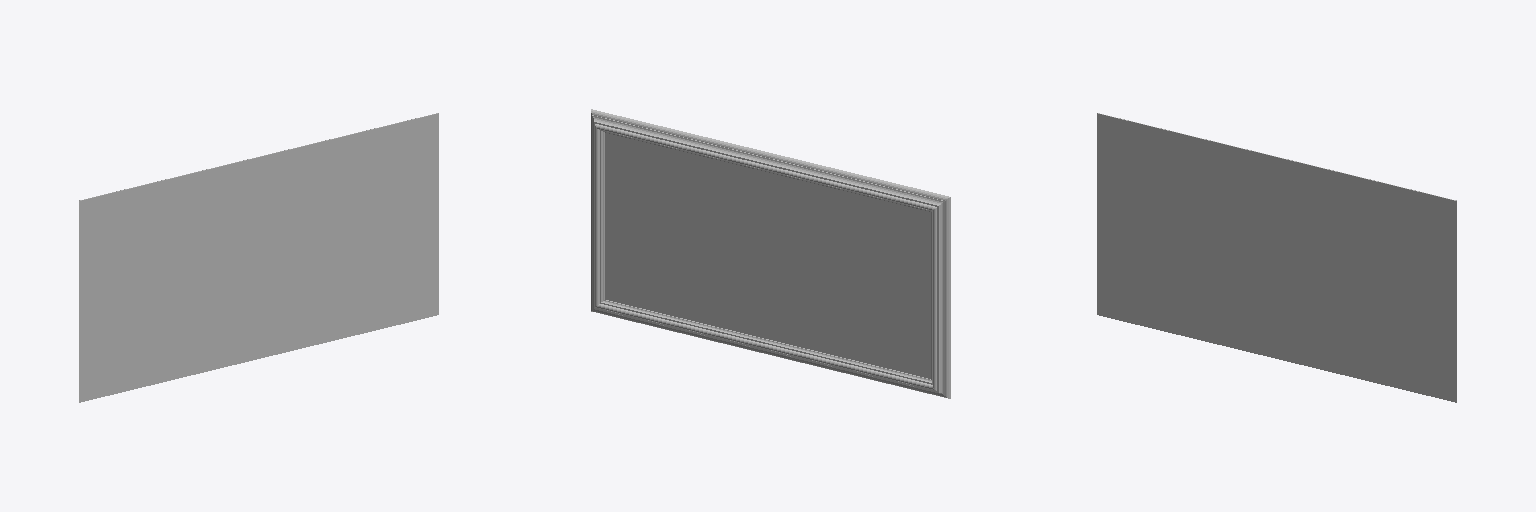
File: frame.obj
3 renders of one model, left to right at view 1: azimuth 30°, elevation 25°; view 2: azimuth 150°, elevation 25°; view 3: azimuth 330°, elevation 25°, orthographic.
Visible parts, largest first — view 1: Picture_Plane.008; view 2: Picture_Plane.008; view 3: Picture_Plane.008.
Part boxes in pixels (x1,y1,x2,y2): Picture_Plane.008: (79,113,438,402); Picture_Plane.008: (591,109,950,398); Picture_Plane.008: (1097,113,1456,402).
Size of the model in its own units: 3.17 by 1.7 by 0.0897.